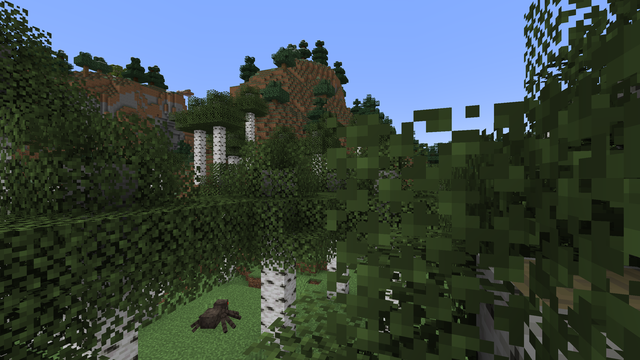araignees: (193, 295, 239, 335)
